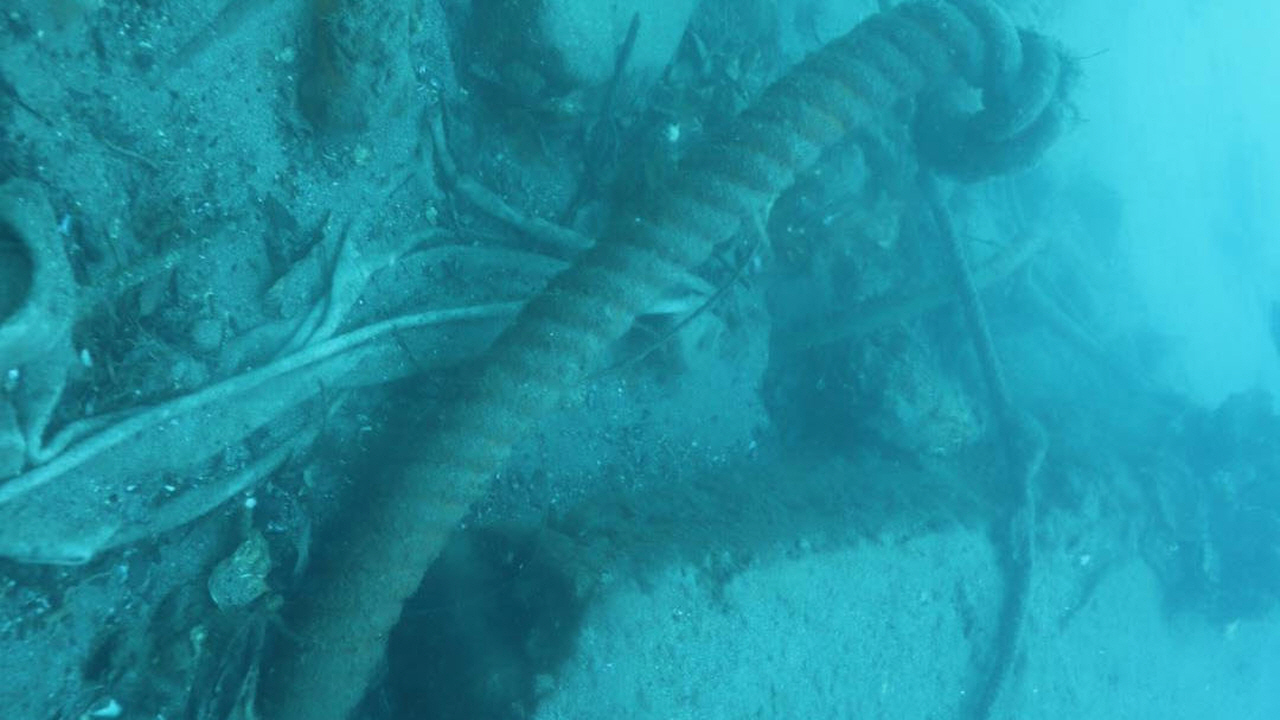rope: (255, 0, 1084, 720)
